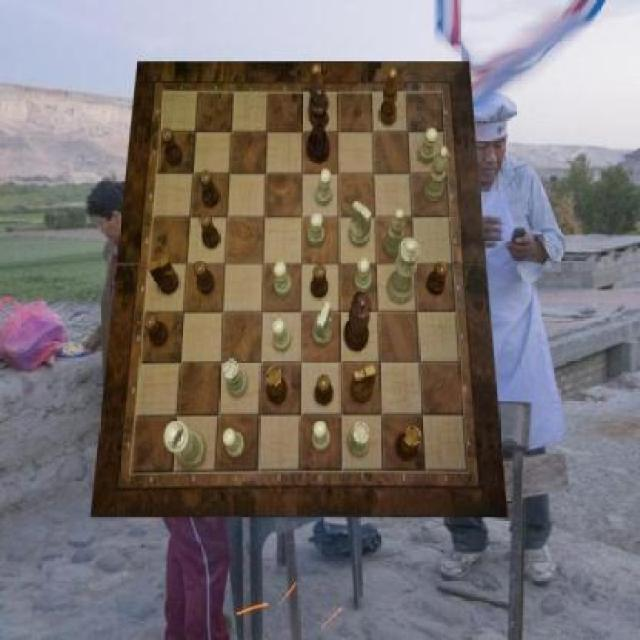bishop: (378, 68, 398, 126), (308, 65, 325, 123)
black-bishop: (308, 84, 330, 164)
black-king: (148, 255, 180, 294), (351, 366, 377, 405)
black-knight: (145, 314, 169, 348), (426, 262, 449, 296), (200, 212, 220, 250), (162, 128, 182, 166), (193, 260, 214, 295), (200, 169, 219, 207), (311, 265, 328, 299), (315, 374, 333, 406)
black-pawn: (345, 292, 372, 352)
black-queen: (397, 426, 421, 461), (266, 366, 287, 405)
black-rook: (423, 148, 448, 202), (385, 210, 407, 258)
white-bishop: (163, 420, 205, 468)
white-king: (349, 202, 372, 248), (312, 301, 332, 347)
white-knight: (418, 128, 438, 164), (274, 262, 293, 298), (272, 318, 292, 352), (223, 428, 245, 458), (316, 170, 332, 206), (313, 422, 332, 452), (308, 212, 324, 247), (356, 259, 372, 293)
white-pawn: (388, 237, 420, 303)
white-queen: (223, 360, 248, 398), (348, 422, 370, 456)
